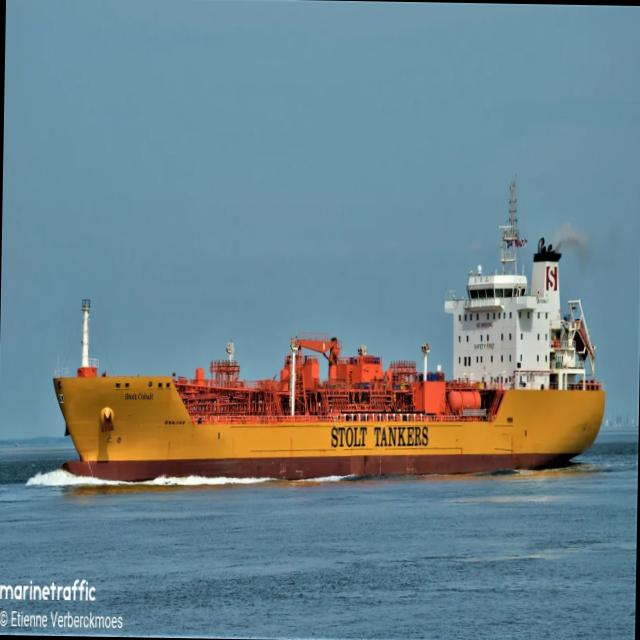Tanker: (53, 182, 604, 481)
